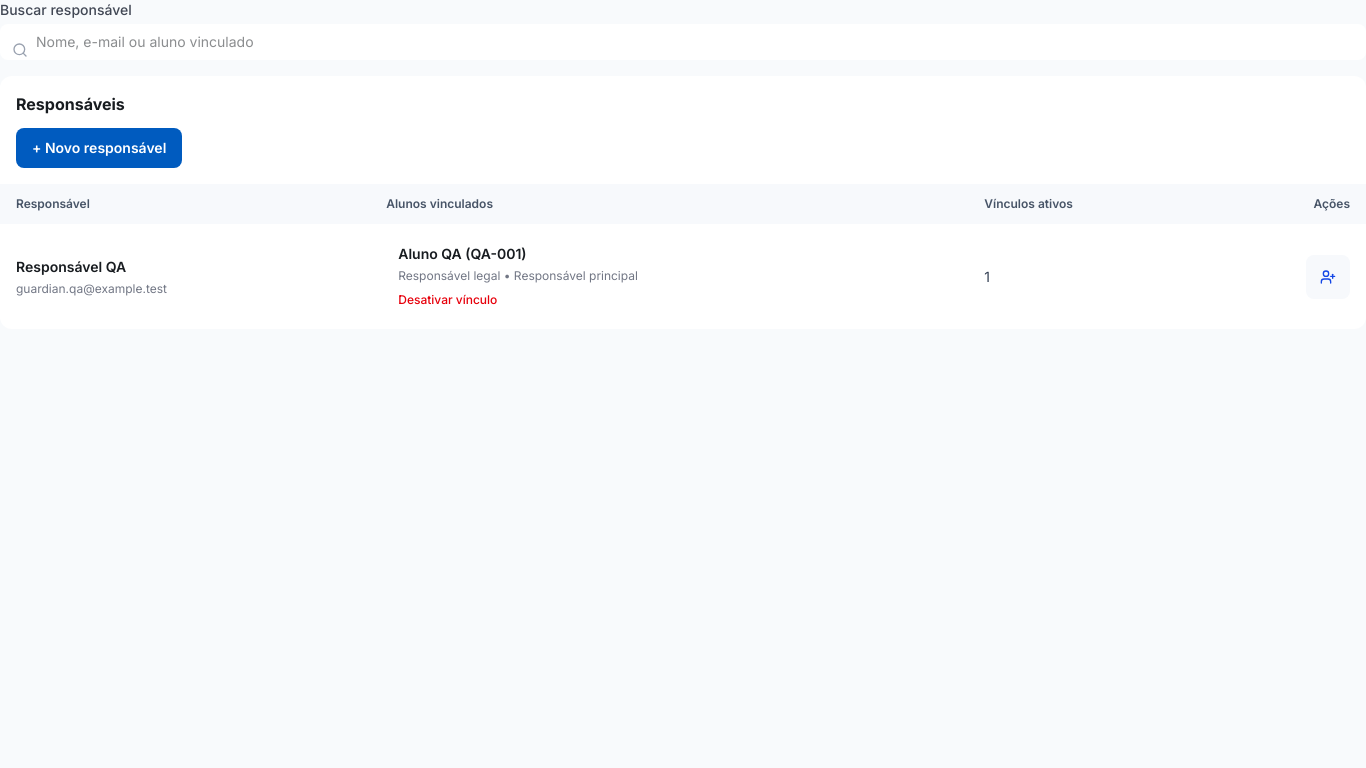
Test: GuardiansTab › mostra erro em vez de feedback de sucesso quando a persistência falha
Click the button "Desativar vínculo".
click(448, 300)  # box 398,292 -> 497,308
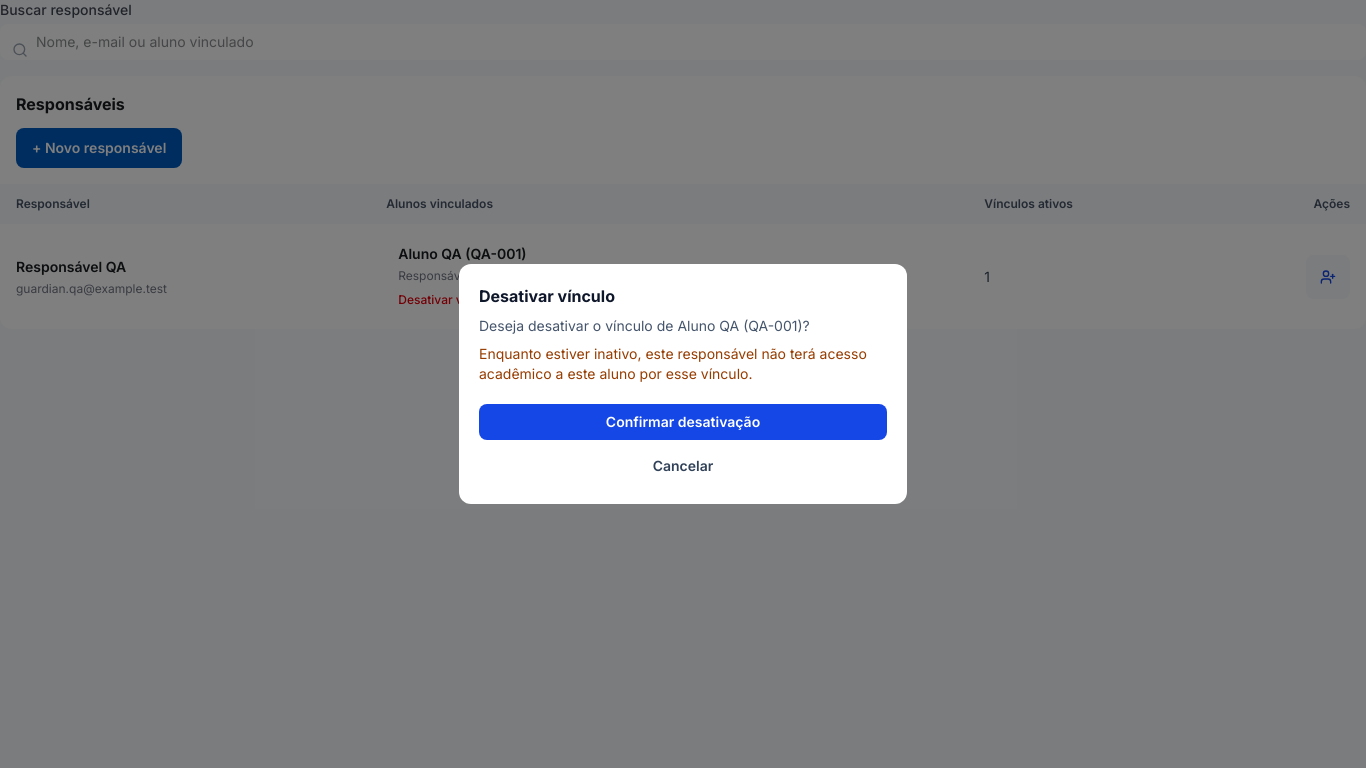
Click the button "Confirmar desativação".
click(683, 422)  # box 479,404 -> 887,440
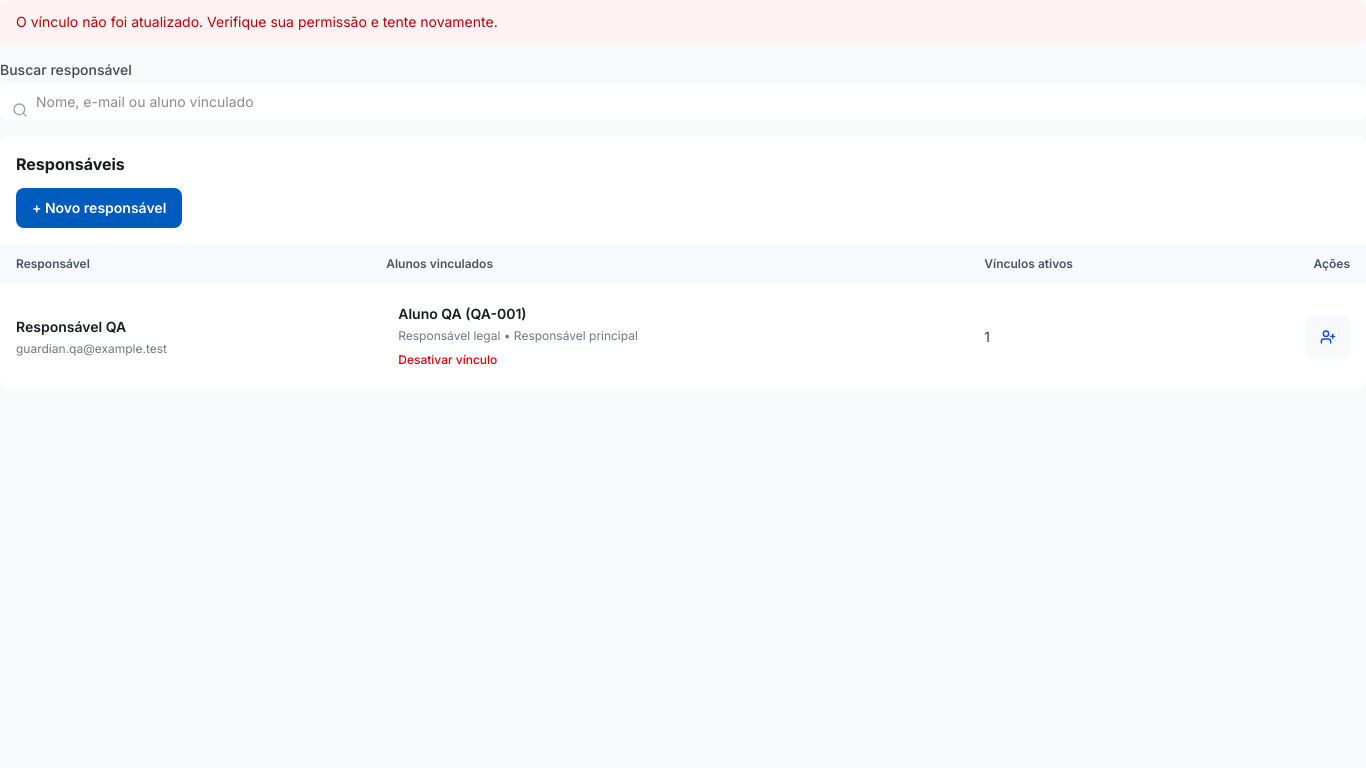
expect the message shows "O vínculo não foi atualizado.": met, box 16,13 -> 498,30
